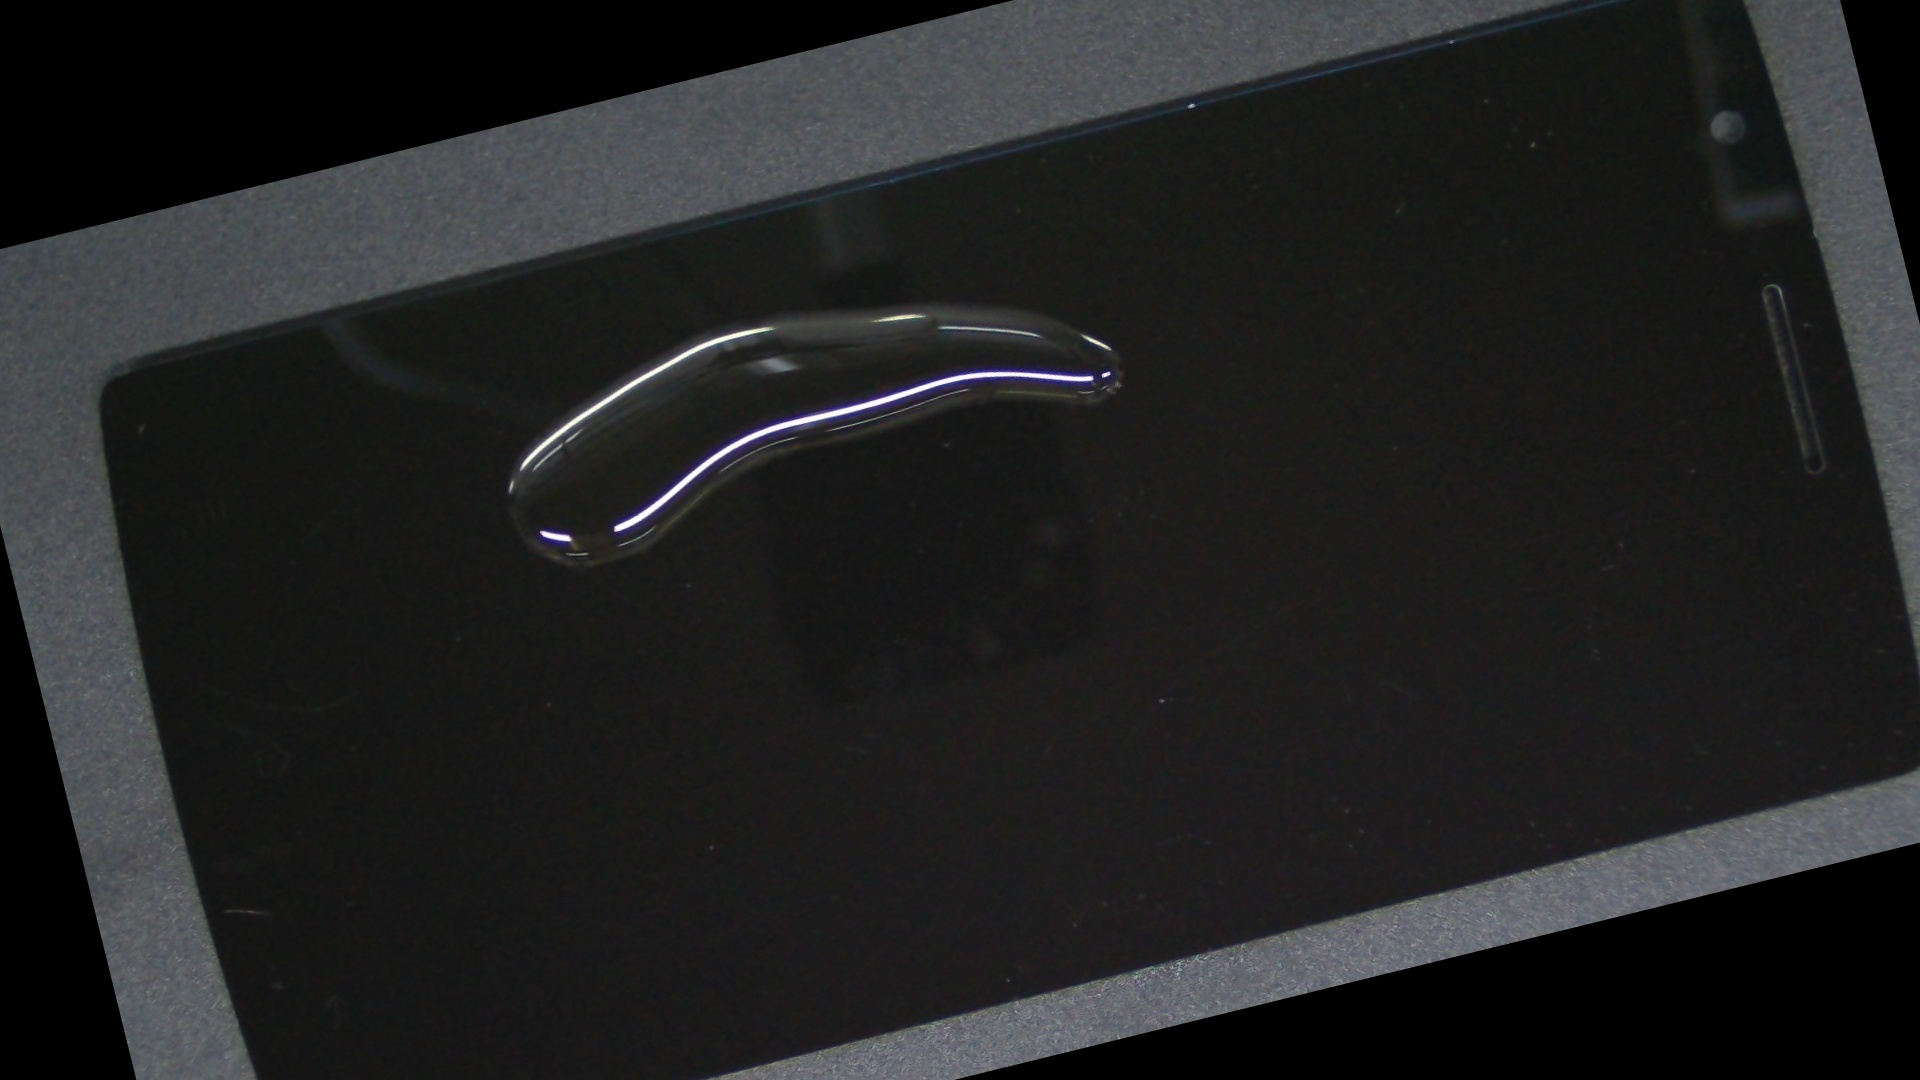oil: (347, 103, 1164, 527)
